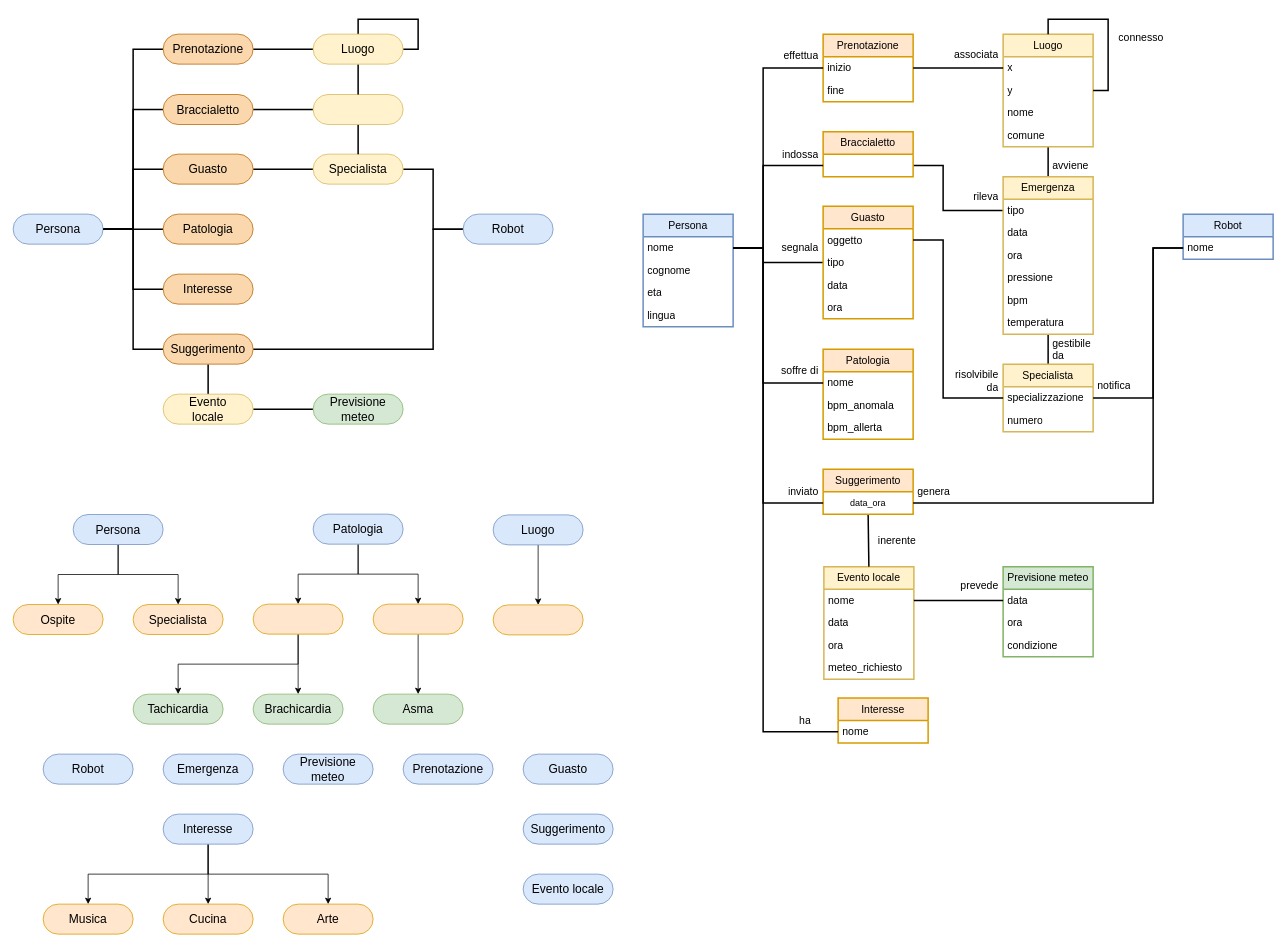
This 1287x947 diagram has some shape labels left out. The shapes that lost their labels are listed below. From the top down, each one's centre as x and y in pixels, then its label:
At pixel 357 109: "Emergenza sanitaria".
At pixel 297 618: "Patologia cardiovascolare".
At pixel 417 618: "Patologia respiratoria".
At pixel 537 619: "Stanza".
